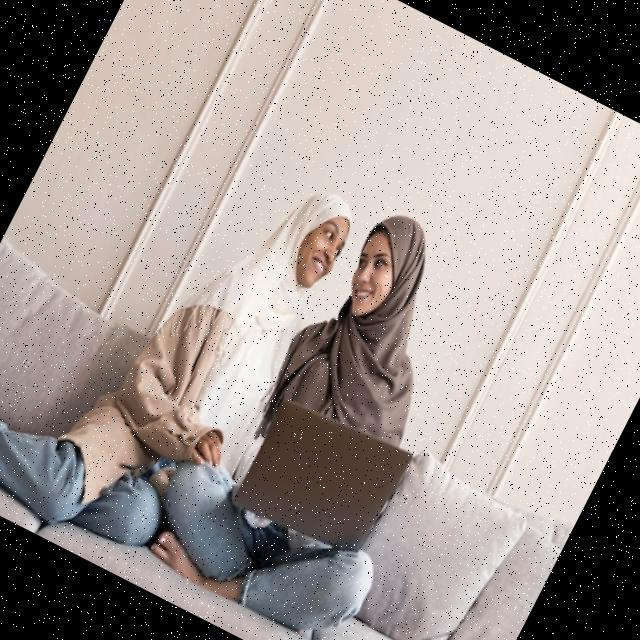Person: (0, 67, 363, 584), (134, 175, 529, 640)
